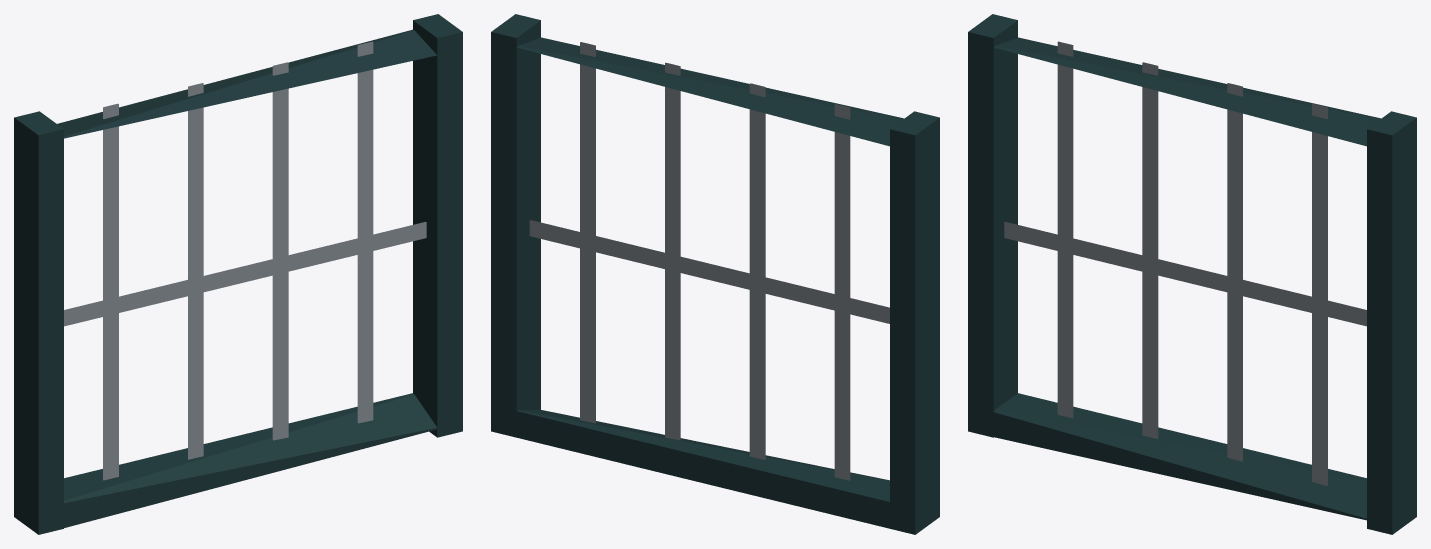
File: crate_door.fbx
3 renders of one model, left to right at view 1: azimuth 30°, elevation 25°; view 2: azimuth 150°, elevation 25°; view 3: azimuth 330°, elevation 25°, orthographic.
Visible parts, largest first — view 1: crate_door; view 2: crate_door; view 3: crate_door.
Boxes of the visible parts, x1,y1,x2,y2 form: crate_door: (14, 14, 462, 534); crate_door: (491, 14, 939, 534); crate_door: (968, 14, 1416, 534).
Size of the model in its own units: 0.5 by 0.45 by 0.05.
